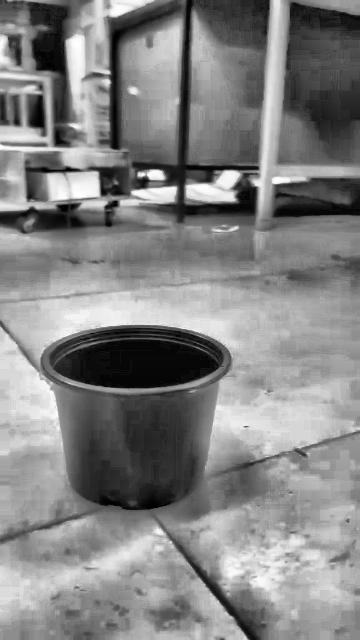pot: (41, 325, 231, 509)
